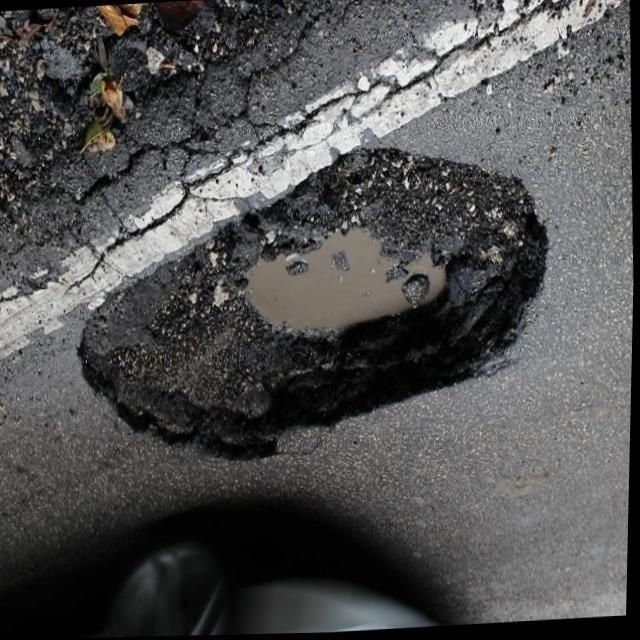pothole: (78, 145, 572, 486)
